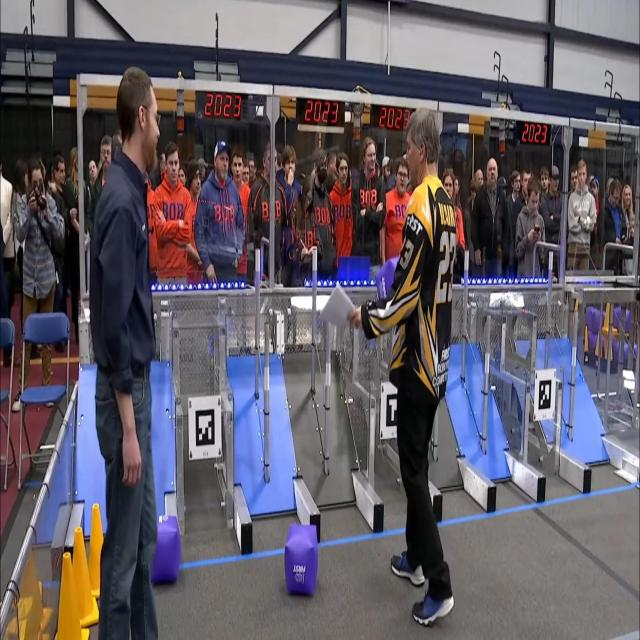frc_cone: (55, 546, 91, 640), (69, 523, 100, 624), (87, 504, 107, 600), (603, 304, 617, 338), (601, 331, 612, 369), (595, 329, 603, 363), (584, 328, 592, 361), (574, 294, 582, 325)
frc_cube: (285, 525, 319, 600), (148, 515, 181, 584), (587, 300, 604, 328), (623, 338, 635, 363), (612, 331, 621, 361), (622, 305, 632, 332), (612, 302, 621, 328), (586, 302, 594, 328)
